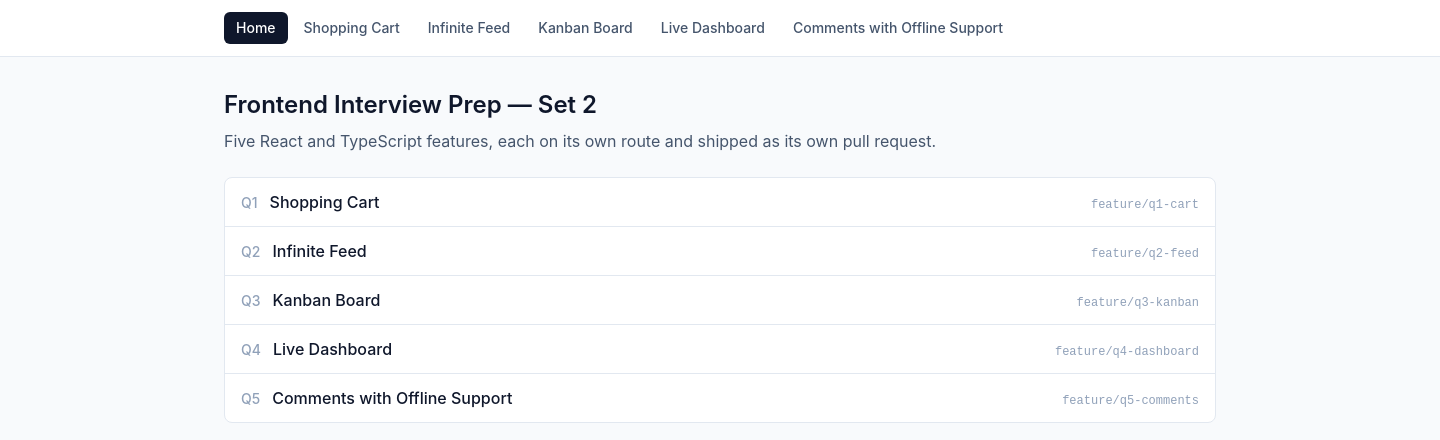
Test case: navigates to a question route
What coordinates should you click on to do the following:
click the link "Q3 Kanban Board feature/q3-kanban"
I would click on:
 (327, 300)
Its box is top-left (241, 290), bottom-right (1199, 310).
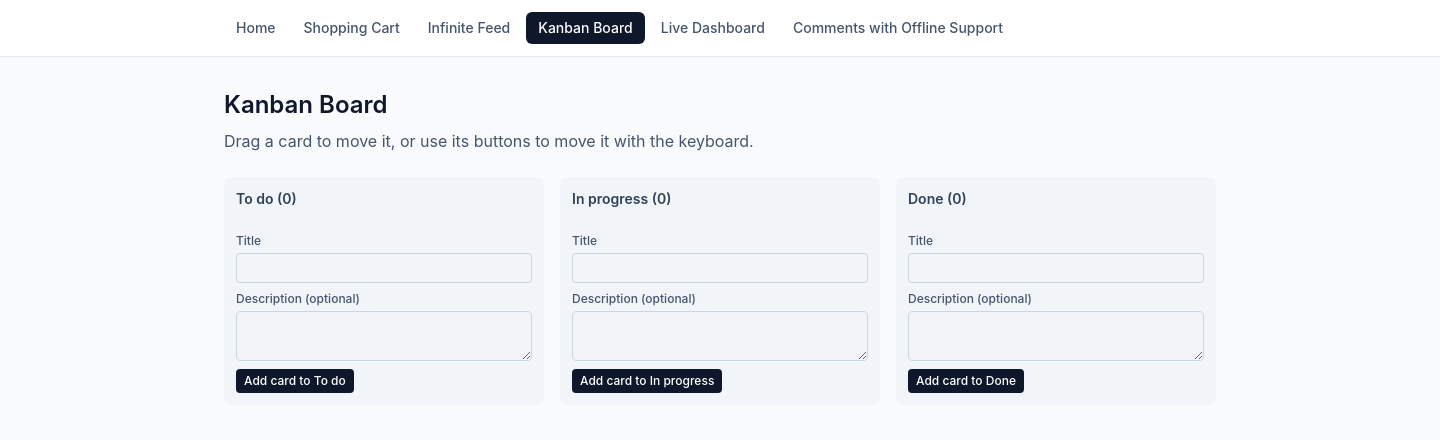
Now the heading "Kanban Board" is shown, box top-left (224, 90), bottom-right (388, 119)
